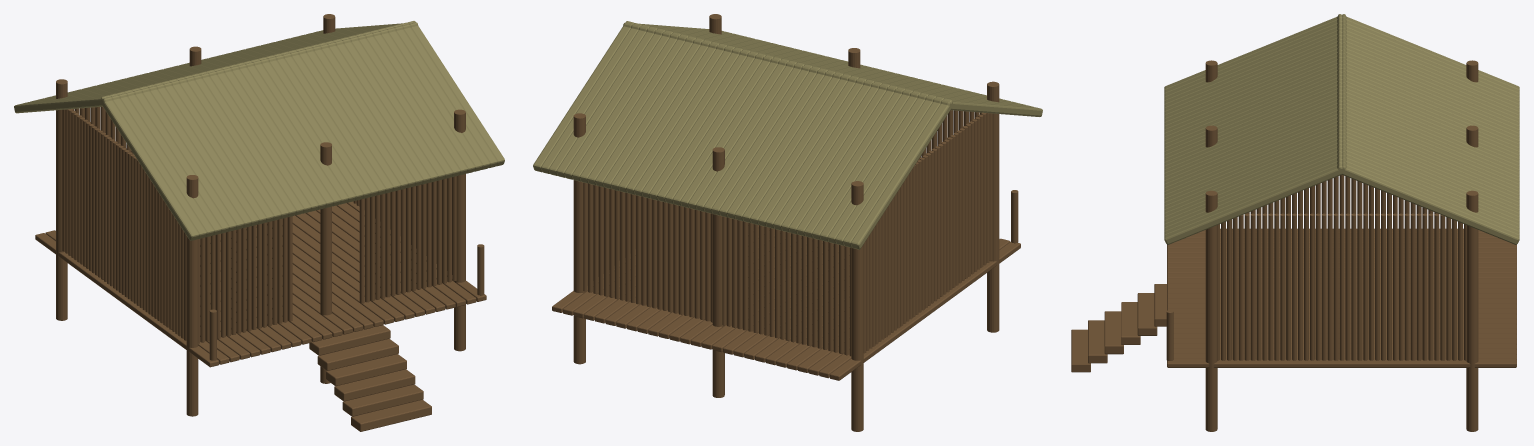
Rendered from StiltHouse.fbx.
3 renders of one model, left to right at view 1: azimuth 30°, elevation 25°; view 2: azimuth 150°, elevation 25°; view 3: azimuth 270°, elevation 25°, orthographic. The views are drawn at different scales.
Parts seen in each view (by area): view 1: StiltHouse; view 2: StiltHouse; view 3: StiltHouse.
Part boxes in pixels (x1,y1,x2,y2): StiltHouse: (14, 14, 504, 431); StiltHouse: (533, 14, 1042, 431); StiltHouse: (1071, 14, 1519, 431).
Bounding box in the file's own units: 612 × 756 × 510.
